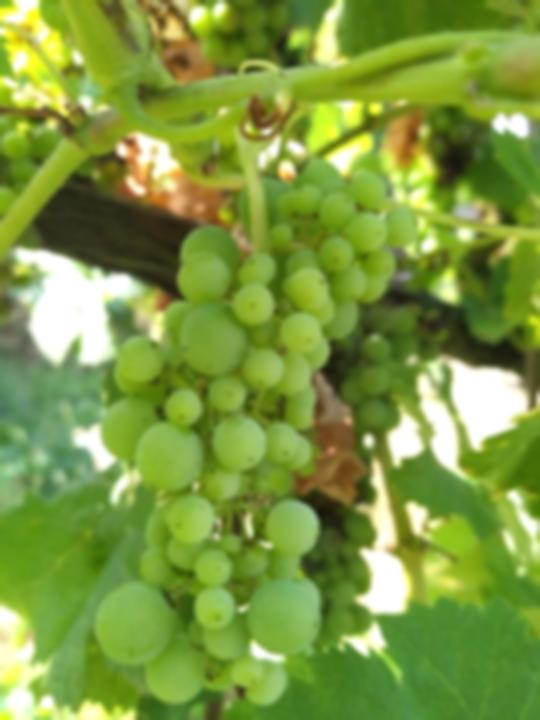grape: (93, 151, 423, 711)
